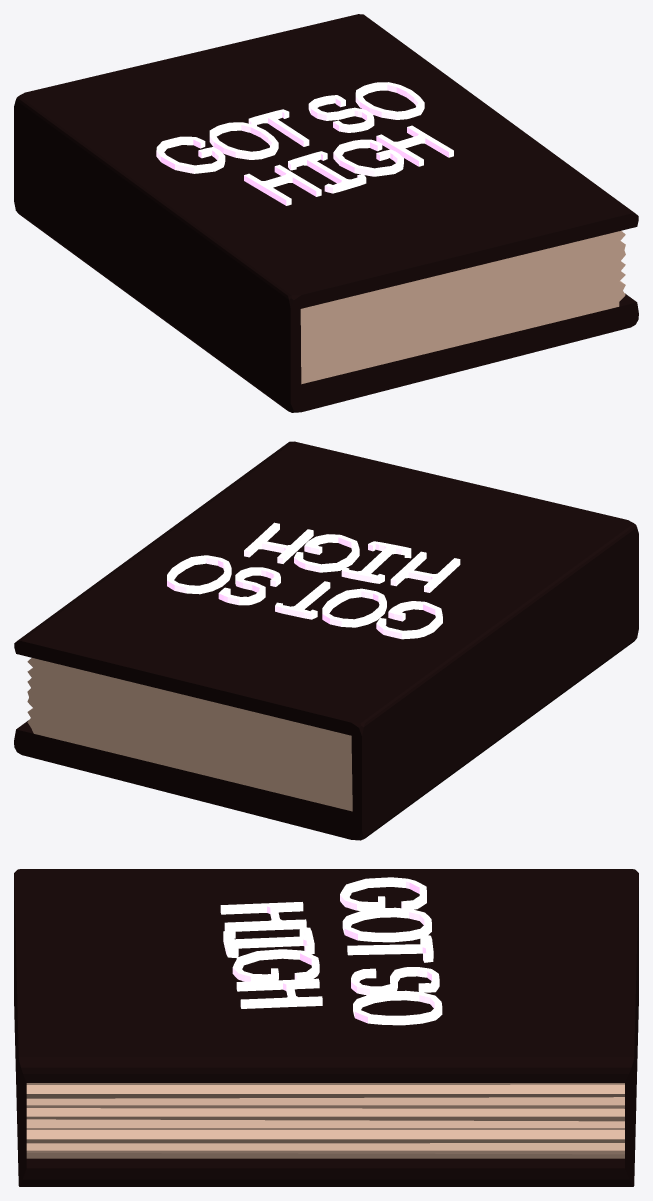
File: journal.gltf
3 views of the same model, one above another, from view 1: azimuth 30°, elevation 25°; view 2: azimuth 150°, elevation 25°; view 3: azimuth 270°, elevation 25° (orthographic). The views are drawn at different scales.
Parts seen in each view (by area): view 1: Plane, Vert; view 2: Plane, Vert; view 3: Plane, Vert.
Part boxes in pixels (left/top/right/bottom): Plane: left=14, top=14, right=638, bottom=412; Vert: left=156, top=82, right=453, bottom=205; Plane: left=14, top=441, right=638, bottom=840; Vert: left=167, top=522, right=460, bottom=639; Plane: left=14, top=869, right=638, bottom=1186; Vert: left=220, top=877, right=442, bottom=1025.
Size of the model in its own units: 2.9 by 0.9978 by 3.94.
